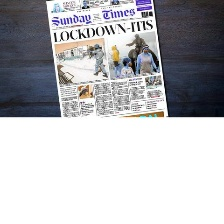news_paper: (41, 0, 174, 118)
